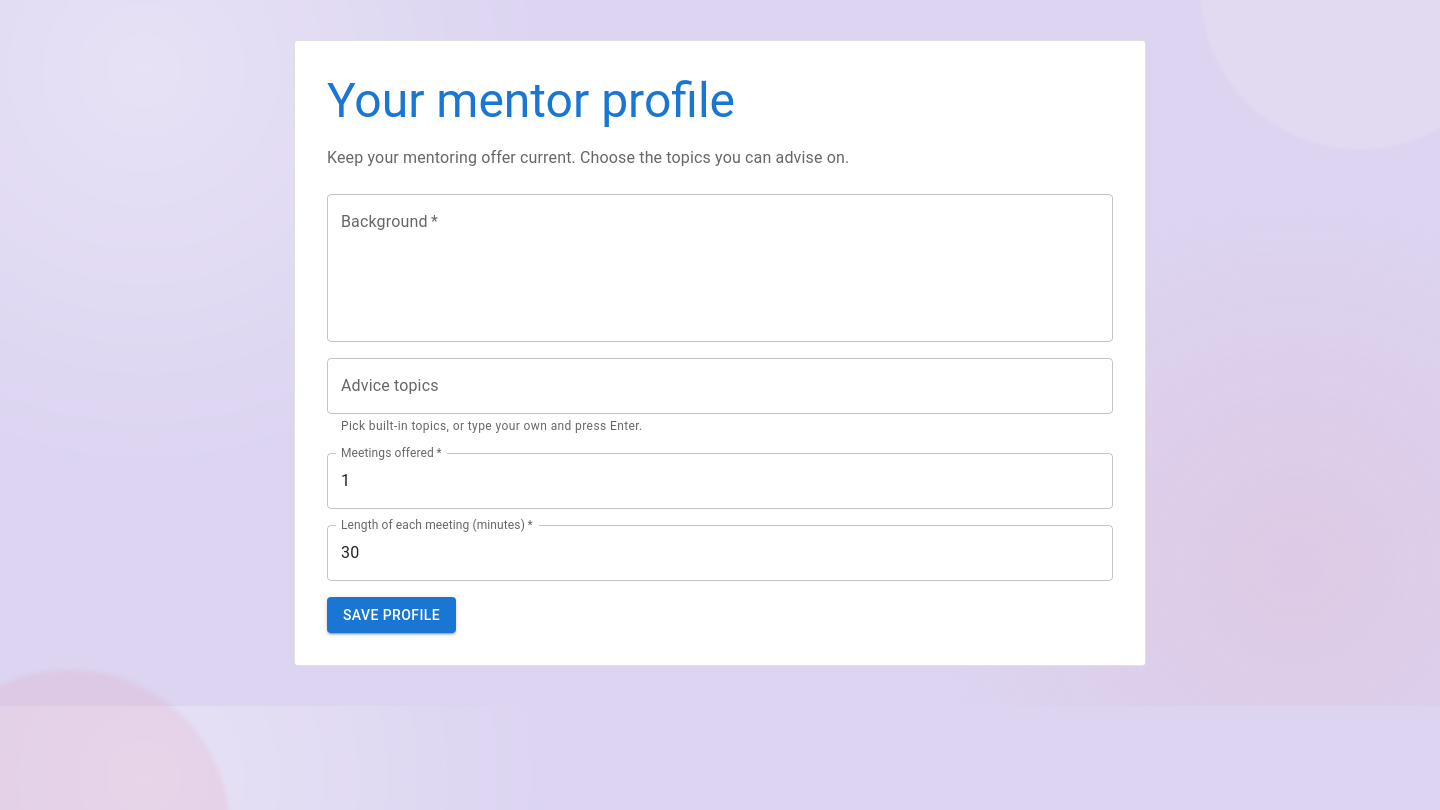
Test: MentorProfile › blocks saving and warns when no topic is selected
The image size is (1440, 810).
Type "New background text." into the text box labelled "Background".
click(720, 268); type("New background text.")  # box [341,210,1099,325]
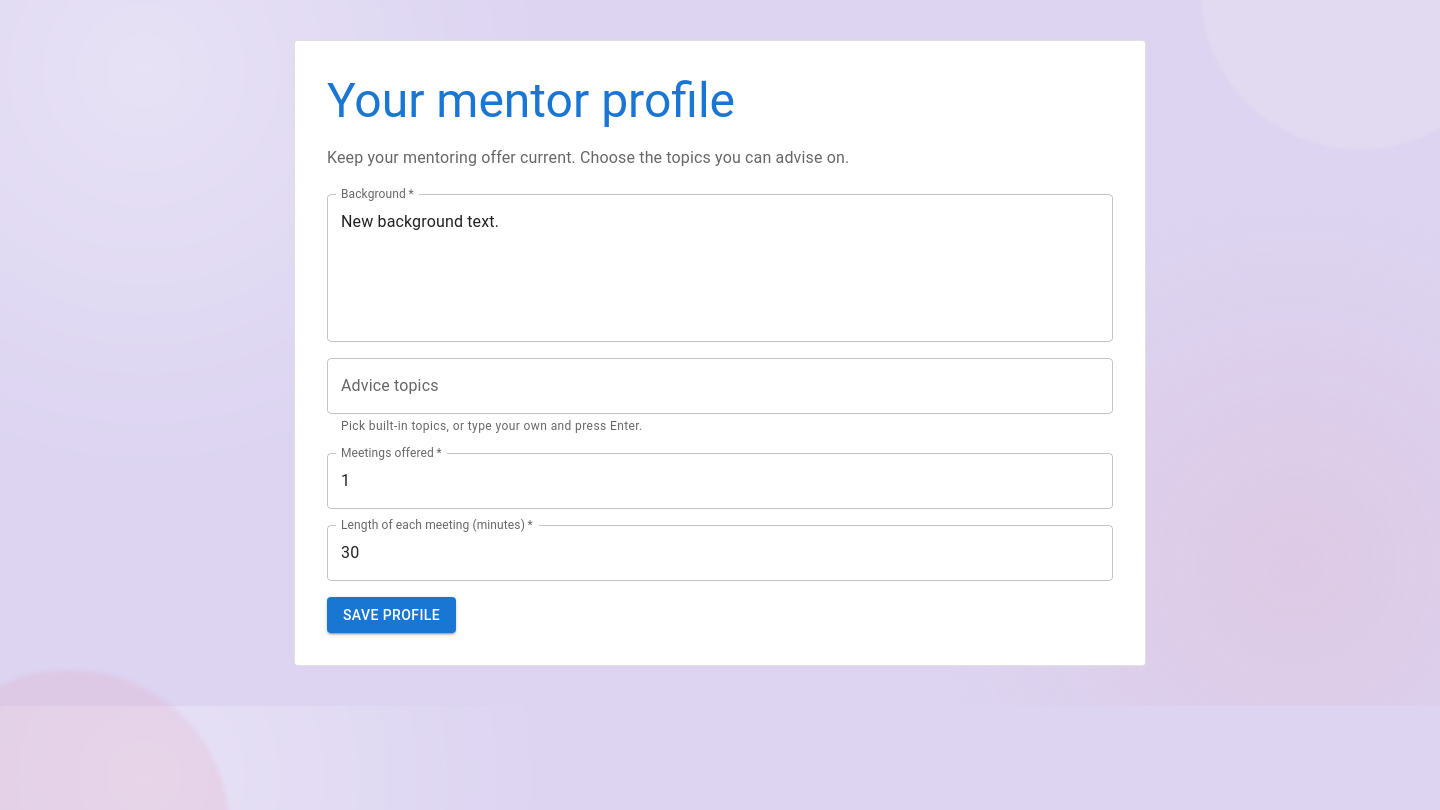
Click the button "Save profile".
click(392, 615)  # box [327,597,456,633]
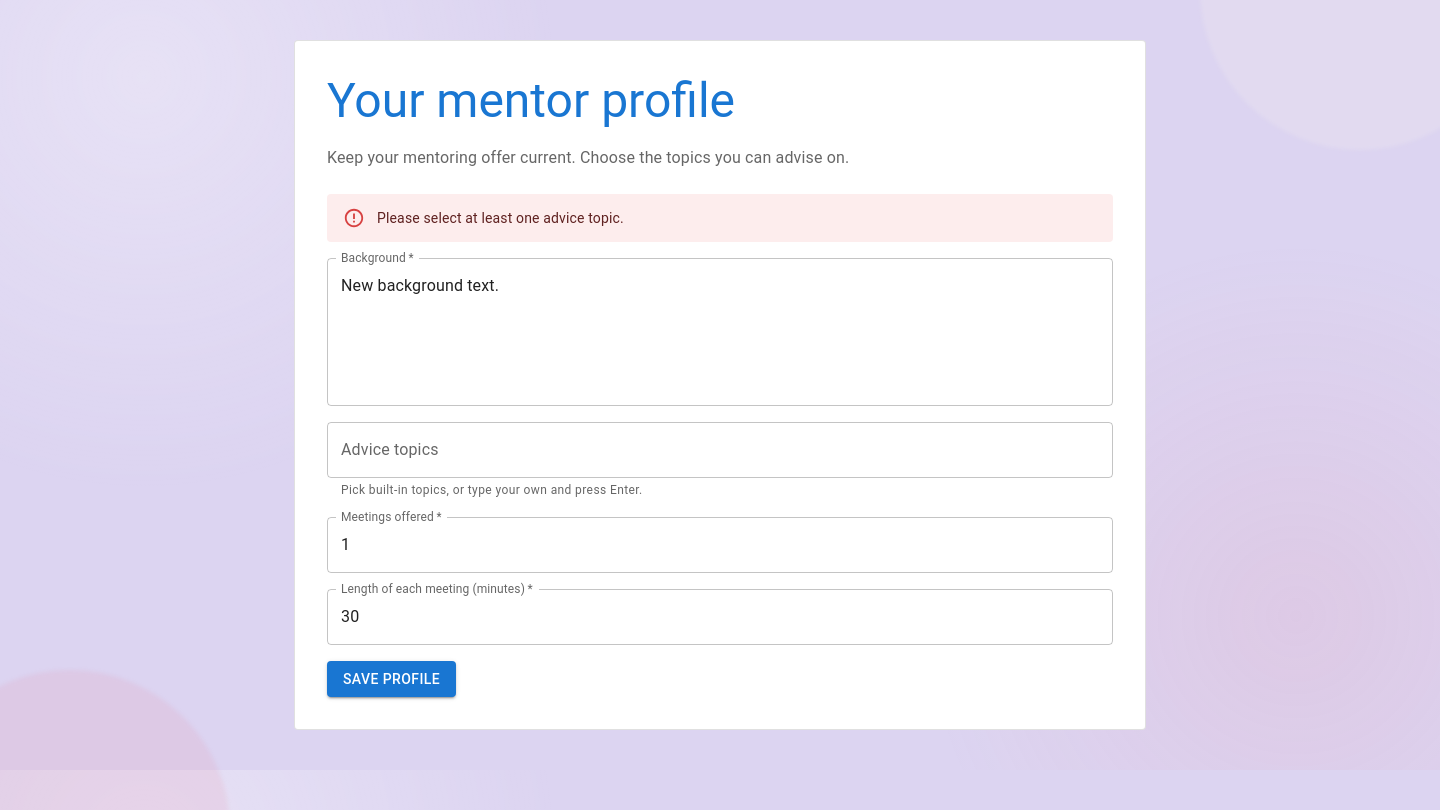
Now the text "Please select at least one advice topic." is shown, box [377,210,624,226]
